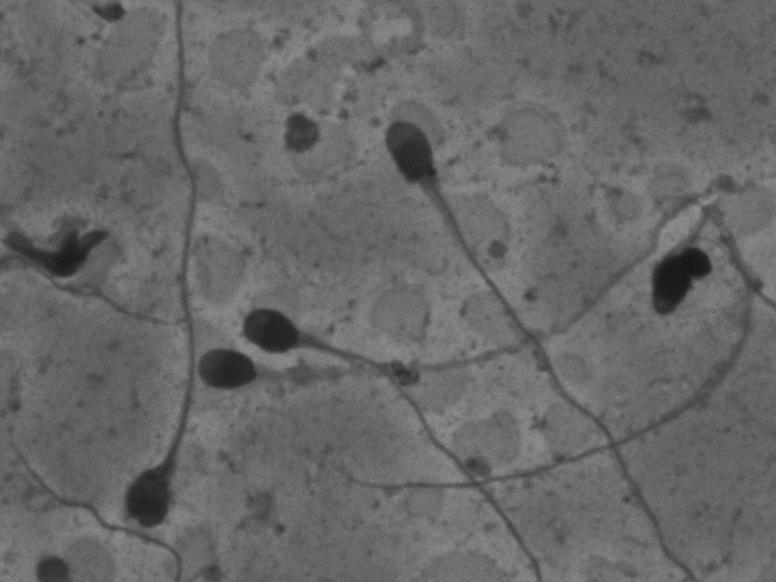Abnormal: (369, 110, 696, 571), (108, 26, 205, 533), (641, 181, 743, 332)
Normal: (193, 179, 719, 398), (233, 292, 558, 573)
